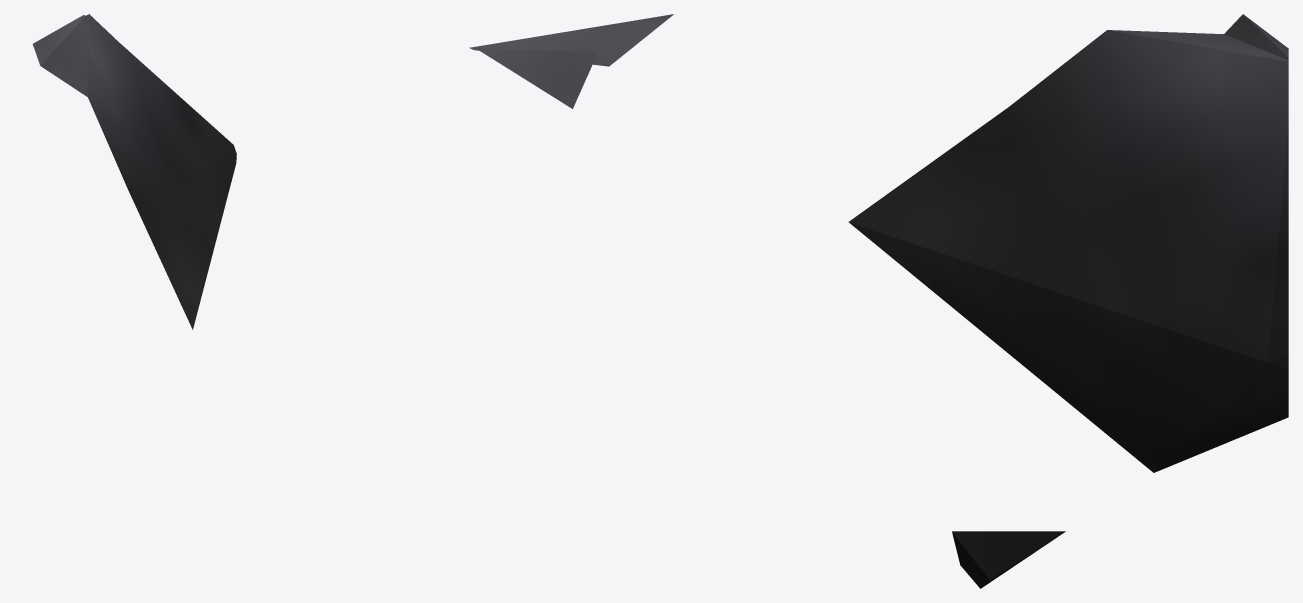
3 renders of one model, left to right at view 1: azimuth 30°, elevation 25°; view 2: azimuth 150°, elevation 25°; view 3: azimuth 270°, elevation 25°, orthographic. The views are drawn at different scales.
Size of the model in its own units: 0.0181 by 0.0362 by 0.0251.
1 material, 1 textured.
